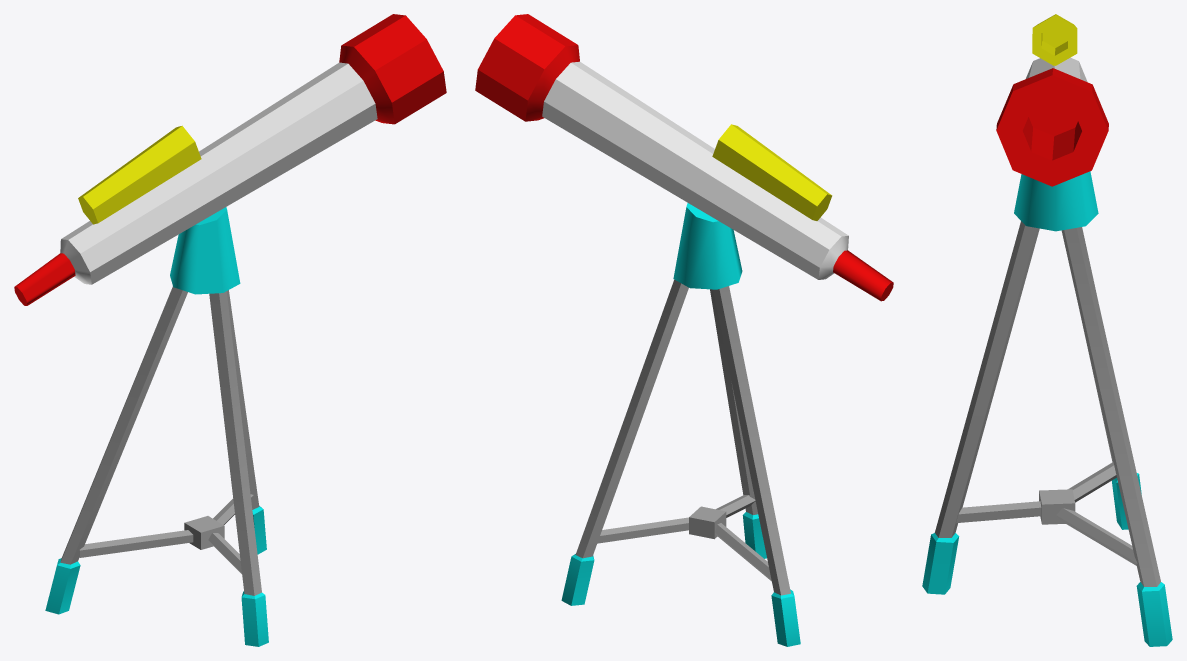
Rendered from BedRoom_Telescope.fbx.
The picture shows the model from 3 angles, left to right: view 1: azimuth 30°, elevation 25°; view 2: azimuth 150°, elevation 25°; view 3: azimuth 270°, elevation 25°; orthographic projection. The views are drawn at different scales.
Visible parts, largest first — view 1: BedRoom_Telescope; view 2: BedRoom_Telescope; view 3: BedRoom_Telescope.
Boxes of the visible parts, left/top/right/bottom form: BedRoom_Telescope: left=14, top=14, right=446, bottom=646; BedRoom_Telescope: left=475, top=14, right=893, bottom=646; BedRoom_Telescope: left=922, top=14, right=1172, bottom=646.
Bounding box in the file's own units: 146 × 183 × 66.02.
